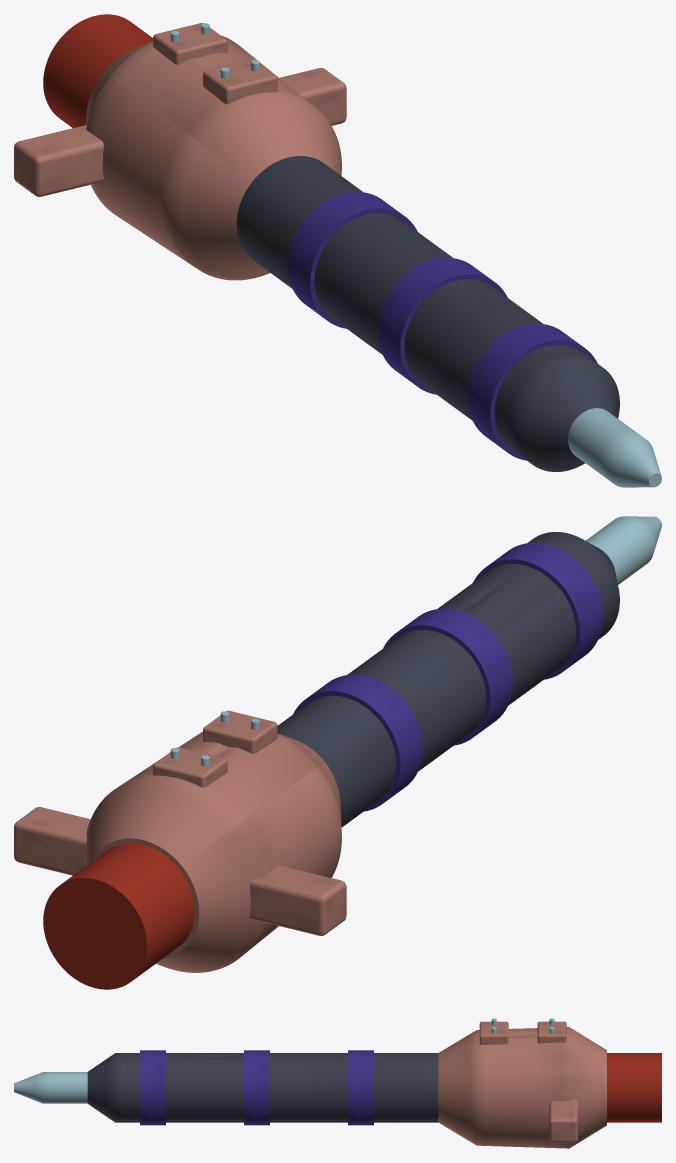
The picture shows the model from 3 angles, top to bottom: view 1: azimuth 30°, elevation 25°; view 2: azimuth 150°, elevation 25°; view 3: azimuth 270°, elevation 25°; orthographic projection. The views are drawn at different scales.
Parts seen in each view (by area): view 1: Achaean Ground Breaker shaft, Achaean Ground Breaker shoulder, Achaean Ground Breaker rear, Achaean Ground Breaker lateral shoulder 0, Achaean Ground Breaker tip, Achaean Ground Breaker shaft band 0, Achaean Ground Breaker shaft band 1, Achaean Ground Breaker shaft band 2, Achaean Ground Breaker lateral shoulder 1, Achaean Ground Breaker service cover 0, Achaean Ground Breaker service cover 1; view 2: Achaean Ground Breaker shoulder, Achaean Ground Breaker shaft, Achaean Ground Breaker rear, Achaean Ground Breaker lateral shoulder 0, Achaean Ground Breaker shaft band 1, Achaean Ground Breaker shaft band 2, Achaean Ground Breaker shaft band 0, Achaean Ground Breaker lateral shoulder 1, Achaean Ground Breaker tip, Achaean Ground Breaker service cover 0, Achaean Ground Breaker service cover 1; view 3: Achaean Ground Breaker shaft, Achaean Ground Breaker shoulder, Achaean Ground Breaker rear, Achaean Ground Breaker tip, Achaean Ground Breaker shaft band 0, Achaean Ground Breaker shaft band 1, Achaean Ground Breaker shaft band 2, Achaean Ground Breaker lateral shoulder 1, Achaean Ground Breaker service cover 0, Achaean Ground Breaker service cover 1.
Boxes of the visible parts, <box> form: Achaean Ground Breaker shaft: <box>236,156,619,471</box>; Achaean Ground Breaker shoulder: <box>86,35,341,280</box>; Achaean Ground Breaker rear: <box>43,14,152,127</box>; Achaean Ground Breaker lateral shoulder 0: <box>14,125,103,196</box>; Achaean Ground Breaker tip: <box>568,408,661,487</box>; Achaean Ground Breaker shaft band 0: <box>468,323,597,460</box>; Achaean Ground Breaker shaft band 1: <box>378,257,507,394</box>; Achaean Ground Breaker shaft band 2: <box>287,192,417,328</box>; Achaean Ground Breaker lateral shoulder 1: <box>279,68,346,125</box>; Achaean Ground Breaker service cover 0: <box>203,59,277,104</box>; Achaean Ground Breaker service cover 1: <box>153,23,227,64</box>; Achaean Ground Breaker shoulder: <box>84,732,341,972</box>; Achaean Ground Breaker shaft: <box>277,532,619,827</box>; Achaean Ground Breaker rear: <box>43,843,194,989</box>; Achaean Ground Breaker lateral shoulder 0: <box>249,865,346,935</box>; Achaean Ground Breaker shaft band 1: <box>383,608,512,745</box>; Achaean Ground Breaker shaft band 2: <box>293,674,422,811</box>; Achaean Ground Breaker shaft band 0: <box>473,542,602,679</box>; Achaean Ground Breaker lateral shoulder 1: <box>14,807,90,875</box>; Achaean Ground Breaker tip: <box>586,516,661,584</box>; Achaean Ground Breaker service cover 0: <box>203,710,277,753</box>; Achaean Ground Breaker service cover 1: <box>153,747,227,787</box>; Achaean Ground Breaker shaft: <box>87,1053,438,1122</box>; Achaean Ground Breaker shoulder: <box>438,1027,606,1148</box>; Achaean Ground Breaker rear: <box>607,1053,661,1122</box>; Achaean Ground Breaker tip: <box>14,1072,87,1103</box>; Achaean Ground Breaker shaft band 0: <box>140,1050,165,1125</box>; Achaean Ground Breaker shaft band 1: <box>244,1050,269,1125</box>; Achaean Ground Breaker shaft band 2: <box>348,1050,373,1125</box>; Achaean Ground Breaker lateral shoulder 1: <box>549,1099,577,1142</box>; Achaean Ground Breaker service cover 0: <box>479,1021,508,1044</box>; Achaean Ground Breaker service cover 1: <box>537,1021,566,1043</box>.
Size of the model in its own units: 0.72 by 0.455 by 2.24.
Materials: 5 (3 with a texture image).
